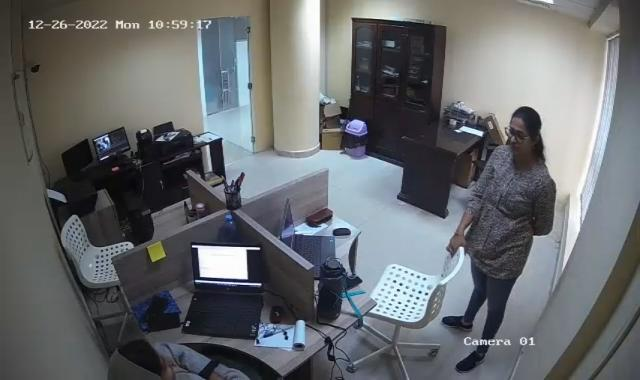no_hairnet: (107, 340, 176, 380), (504, 102, 544, 163)
